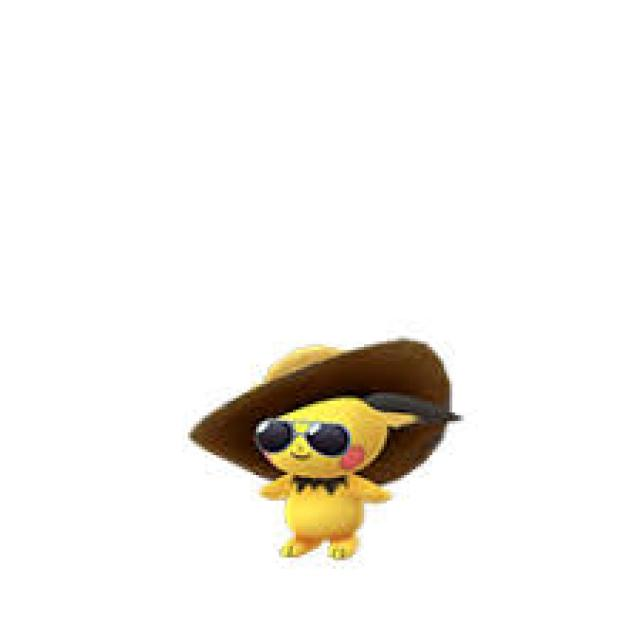pichu: (187, 304, 457, 585)
